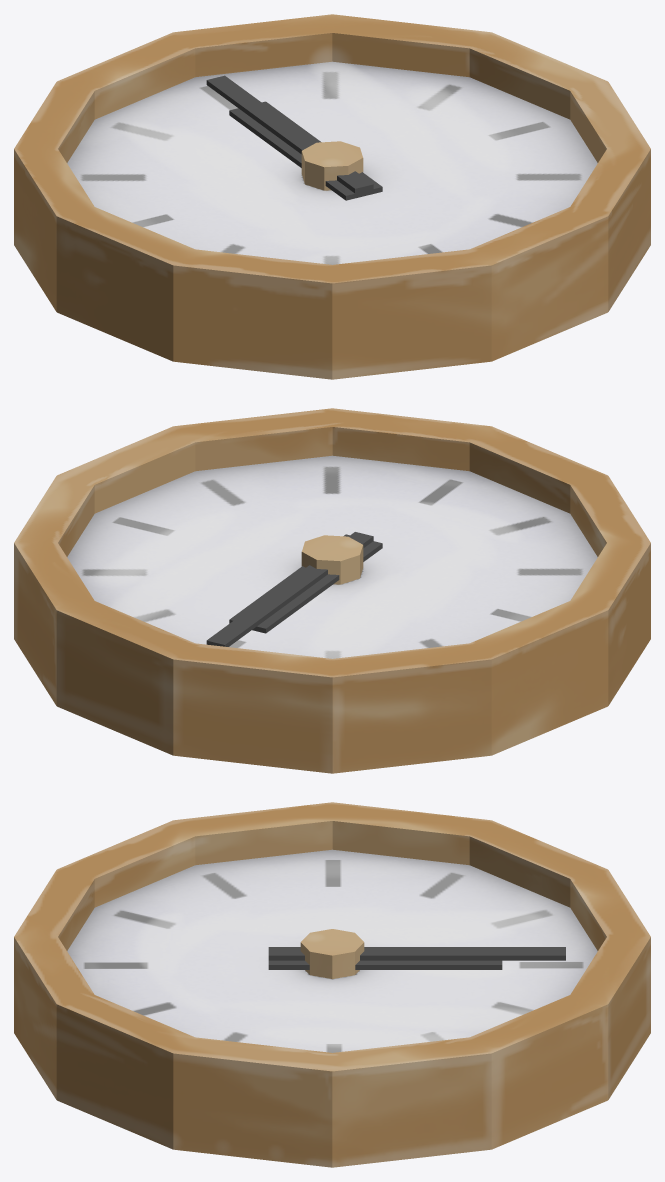
Rendered from clockWall.FBX.
3 views of the same model, one above another, from view 1: azimuth 30°, elevation 25°; view 2: azimuth 150°, elevation 25°; view 3: azimuth 270°, elevation 25° (orthographic).
Visible parts, largest first — view 1: Clock, ClockHandMinutes, clockHandHours; view 2: Clock, ClockHandMinutes, clockHandHours; view 3: Clock, ClockHandMinutes, clockHandHours.
Part boxes in pixels (left/top/right/bottom): Clock: left=14, top=14, right=650, bottom=379; ClockHandMinutes: left=206, top=75, right=373, bottom=193; clockHandHours: left=229, top=101, right=382, bottom=200; Clock: left=14, top=408, right=650, bottom=773; ClockHandMinutes: left=206, top=532, right=373, bottom=646; clockHandHours: left=229, top=534, right=382, bottom=633; Clock: left=14, top=802, right=650, bottom=1167; ClockHandMinutes: left=268, top=947, right=565, bottom=960; clockHandHours: left=268, top=960, right=502, bottom=969.
Size of the model in its own units: 11.81 by 1.97 by 11.81.
Materials: 1 (1 with a texture image).
